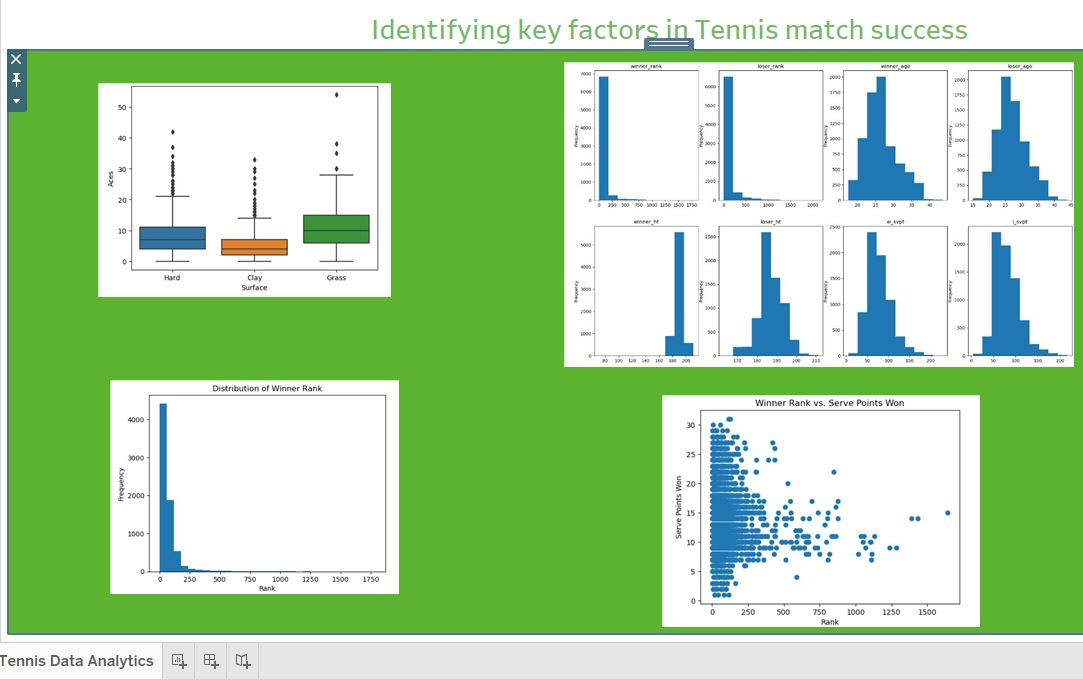

The page's visual inventory and layout, read from the dashboard file:
{"tool":"tableau","page":{"name":"Tennis Data Analytics","canvas":[1000,1000],"units":"permille","ordinal":0},"visuals":[{"type":"title","box":[6,12.4,988,70]},{"type":"image","param":"C:/Users/Utilisateur/IronHack/Bootcamp/Individual_Proyect/Tennis_Data_Analytics/","box":[332.1,99.5,559.5,474.3]},{"type":"image","param":"C:/Users/Utilisateur/IronHack/Bootcamp/Individual_Proyect/Tennis_Data_Analytics/","box":[16.4,132.2,332.1,332.8]},{"type":"image","param":"C:/Users/Utilisateur/IronHack/Bootcamp/Individual_Proyect/Tennis_Data_Analytics/","box":[23.2,594.1,332.8,332.8]},{"type":"image","param":"C:/Users/Utilisateur/IronHack/Bootcamp/Individual_Proyect/Tennis_Data_Analytics/","box":[480.2,617.4,267,360.8]}]}

Visuals, with their boxes on the dashboard's canvas, which has no fixed pixel size, in thousandths of its width and height (x1, y1, x2, y2). These are canvas units, not pixel positions in the 1083x680 screenshot, which may show the page scaled, cropped or inside an application window:
title: locate(6, 12, 994, 82)
image: locate(332, 100, 892, 574)
image: locate(16, 132, 348, 465)
image: locate(23, 594, 356, 927)
image: locate(480, 617, 747, 978)
